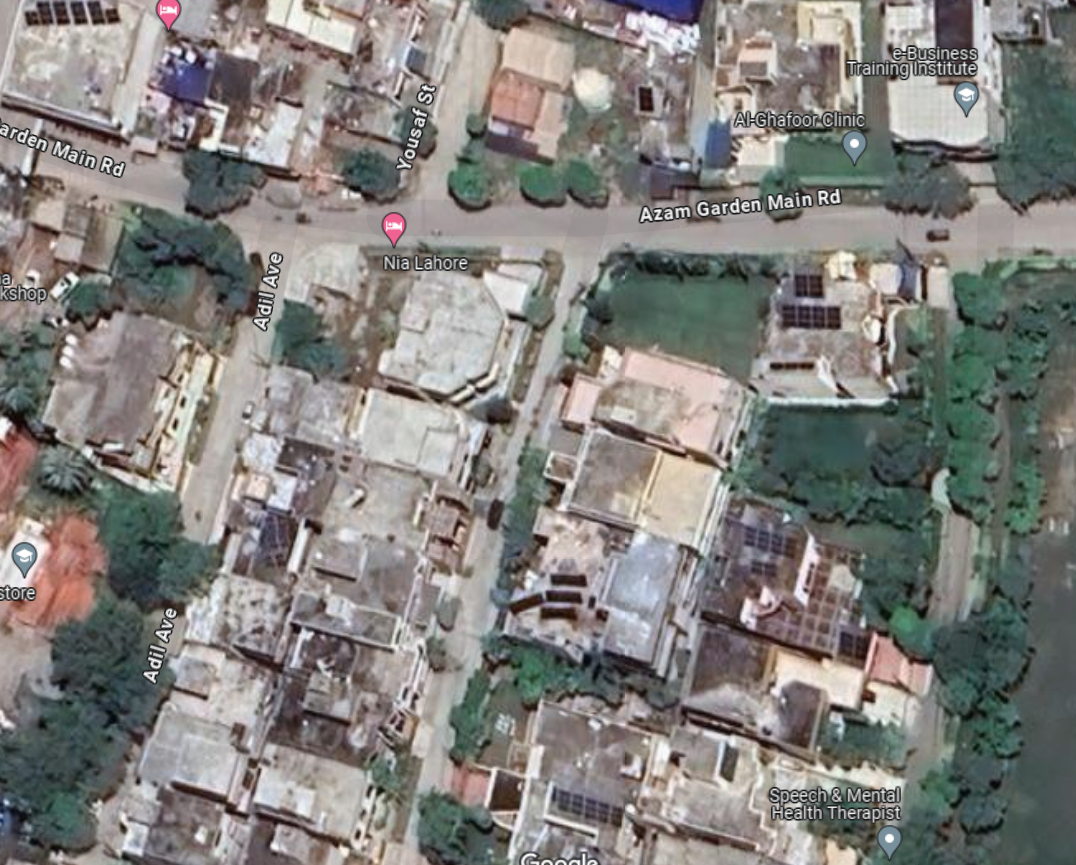solar-panel: (551, 779, 625, 822), (23, 1, 125, 26), (784, 303, 845, 326), (747, 526, 793, 555), (793, 268, 826, 295), (755, 557, 781, 580), (841, 629, 863, 655)
